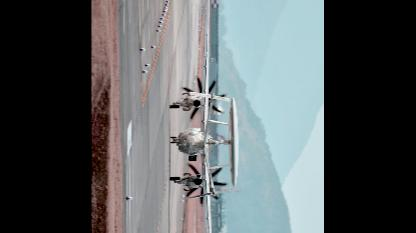C5: (169, 0, 239, 232)
